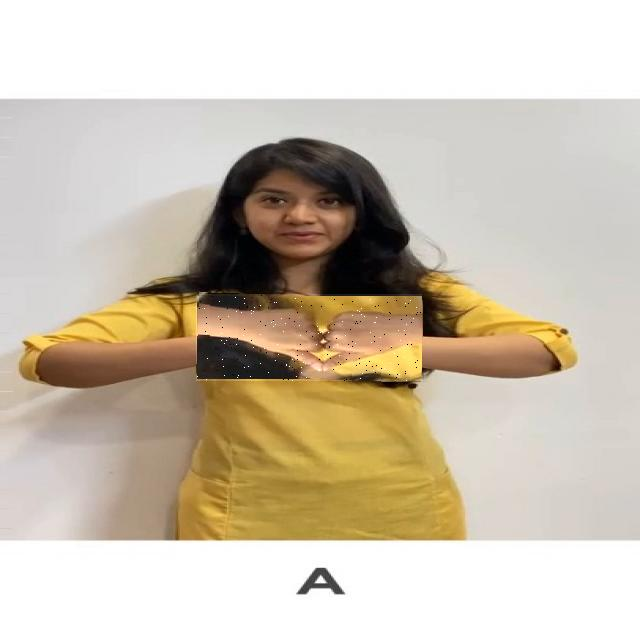A: (196, 294, 422, 381)
